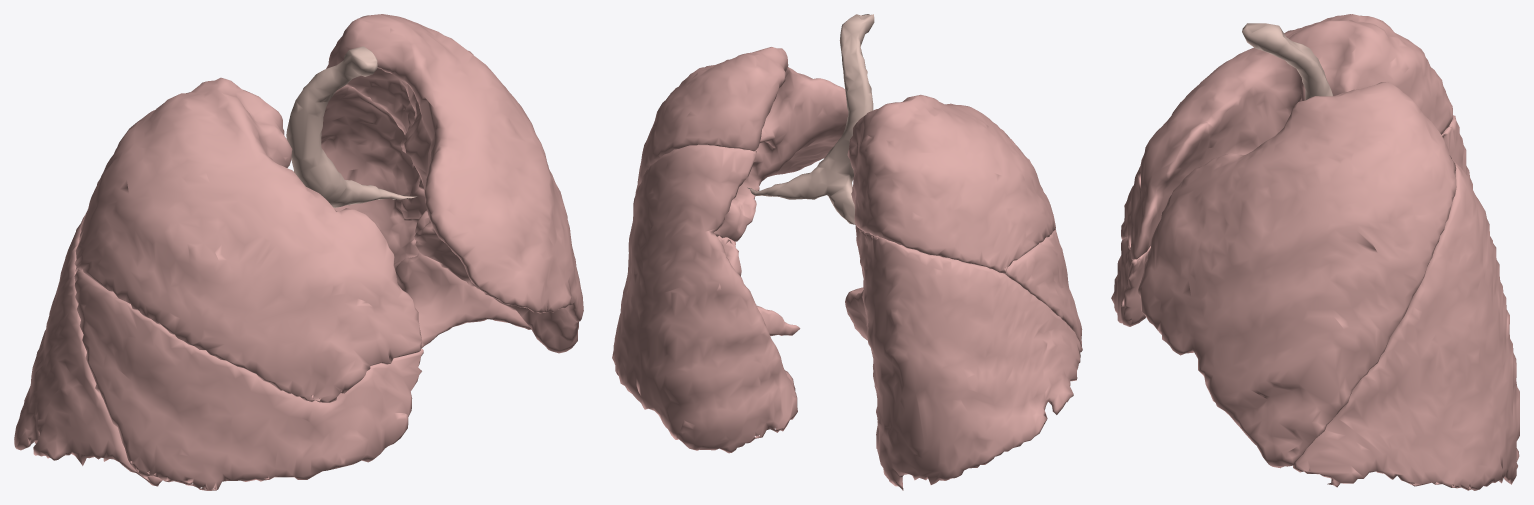
Rendered from tsd_s0196_older_adult_female.respiratory.LOD2.glb.
The picture shows the model from 3 angles, left to right: view 1: azimuth 30°, elevation 25°; view 2: azimuth 150°, elevation 25°; view 3: azimuth 270°, elevation 25°; orthographic projection. The views are drawn at different scales.
Parts seen in each view (by area): view 1: TSD_S0196.OLDER_ADULT.FEMALE.RESPIRATORY.SUPERIOR_LOBE_OF_RI, TSD_S0196.OLDER_ADULT.FEMALE.RESPIRATORY.SUPERIOR_LOBE_OF_LE, TSD_S0196.OLDER_ADULT.FEMALE.RESPIRATORY.MIDDLE_LOBE_OF_RIGH, TSD_S0196.OLDER_ADULT.FEMALE.RESPIRATORY.INFERIOR_LOBE_OF_LE, TSD_S0196.OLDER_ADULT.FEMALE.RESPIRATORY.INFERIOR_LOBE_OF_RI, TSD_S0196.OLDER_ADULT.FEMALE.RESPIRATORY.TRACHEA; view 2: TSD_S0196.OLDER_ADULT.FEMALE.RESPIRATORY.INFERIOR_LOBE_OF_RI, TSD_S0196.OLDER_ADULT.FEMALE.RESPIRATORY.INFERIOR_LOBE_OF_LE, TSD_S0196.OLDER_ADULT.FEMALE.RESPIRATORY.SUPERIOR_LOBE_OF_RI, TSD_S0196.OLDER_ADULT.FEMALE.RESPIRATORY.SUPERIOR_LOBE_OF_LE, TSD_S0196.OLDER_ADULT.FEMALE.RESPIRATORY.TRACHEA, TSD_S0196.OLDER_ADULT.FEMALE.RESPIRATORY.MIDDLE_LOBE_OF_RIGH; view 3: TSD_S0196.OLDER_ADULT.FEMALE.RESPIRATORY.SUPERIOR_LOBE_OF_LE, TSD_S0196.OLDER_ADULT.FEMALE.RESPIRATORY.INFERIOR_LOBE_OF_LE, TSD_S0196.OLDER_ADULT.FEMALE.RESPIRATORY.SUPERIOR_LOBE_OF_RI, TSD_S0196.OLDER_ADULT.FEMALE.RESPIRATORY.TRACHEA, TSD_S0196.OLDER_ADULT.FEMALE.RESPIRATORY.MIDDLE_LOBE_OF_RIGH, TSD_S0196.OLDER_ADULT.FEMALE.RESPIRATORY.INFERIOR_LOBE_OF_RI.
Part boxes in pixels (x1,y1,x2,y2): TSD_S0196.OLDER_ADULT.FEMALE.RESPIRATORY.SUPERIOR_LOBE_OF_RI: (74,77,422,402); TSD_S0196.OLDER_ADULT.FEMALE.RESPIRATORY.SUPERIOR_LOBE_OF_LE: (326,14,583,353); TSD_S0196.OLDER_ADULT.FEMALE.RESPIRATORY.MIDDLE_LOBE_OF_RIGH: (74,269,423,490); TSD_S0196.OLDER_ADULT.FEMALE.RESPIRATORY.INFERIOR_LOBE_OF_LE: (321,85,531,347); TSD_S0196.OLDER_ADULT.FEMALE.RESPIRATORY.INFERIOR_LOBE_OF_RI: (14,209,162,486); TSD_S0196.OLDER_ADULT.FEMALE.RESPIRATORY.TRACHEA: (286,46,417,207); TSD_S0196.OLDER_ADULT.FEMALE.RESPIRATORY.INFERIOR_LOBE_OF_RI: (845,225,1082,490); TSD_S0196.OLDER_ADULT.FEMALE.RESPIRATORY.INFERIOR_LOBE_OF_LE: (612,144,800,453); TSD_S0196.OLDER_ADULT.FEMALE.RESPIRATORY.SUPERIOR_LOBE_OF_RI: (847,94,1055,273); TSD_S0196.OLDER_ADULT.FEMALE.RESPIRATORY.SUPERIOR_LOBE_OF_LE: (635,47,848,241); TSD_S0196.OLDER_ADULT.FEMALE.RESPIRATORY.TRACHEA: (747,14,874,224); TSD_S0196.OLDER_ADULT.FEMALE.RESPIRATORY.MIDDLE_LOBE_OF_RIGH: (1004,229,1082,346); TSD_S0196.OLDER_ADULT.FEMALE.RESPIRATORY.SUPERIOR_LOBE_OF_LE: (1137,82,1456,468); TSD_S0196.OLDER_ADULT.FEMALE.RESPIRATORY.INFERIOR_LOBE_OF_LE: (1293,161,1519,490); TSD_S0196.OLDER_ADULT.FEMALE.RESPIRATORY.SUPERIOR_LOBE_OF_RI: (1121,14,1452,259); TSD_S0196.OLDER_ADULT.FEMALE.RESPIRATORY.TRACHEA: (1242,23,1332,100); TSD_S0196.OLDER_ADULT.FEMALE.RESPIRATORY.MIDDLE_LOBE_OF_RIGH: (1111,237,1150,326); TSD_S0196.OLDER_ADULT.FEMALE.RESPIRATORY.INFERIOR_LOBE_OF_RI: (1441,115,1472,188).
Bounding box in the file's own units: 0.2551 × 0.2143 × 0.1832.
